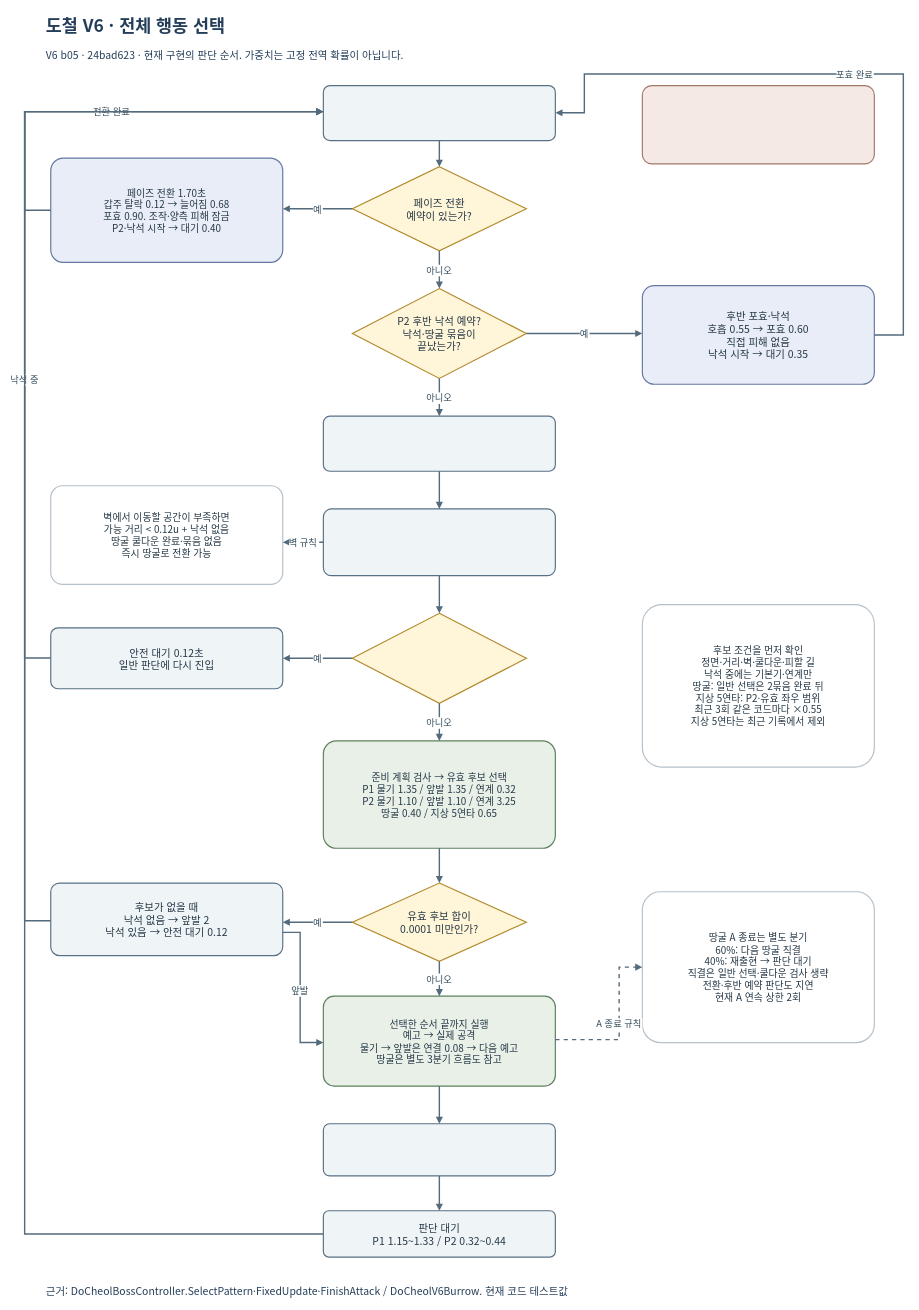
The diagram is 919 pixels wide and 1310 high, and some of its shapes have lost their labels. Each missing label, with the box of its shape:
낙석 중 플레이어가 잠긴 동작 중인가?: (351, 612, 527, 704)
사망은 어느 상태에서도 종료 보스 사망 → 승리 / 플레이어 사망 → 패배 공격·예약·낙석·마커 중지: (641, 85, 875, 164)
새 판단에서 목표 1회 저장 위치·방향 준비에도 같은 목표 재사용: (322, 415, 556, 472)
일반 판단 진입 Idle·판단 대기·안전 대기·자세 안정: (322, 85, 556, 141)
최종 회복을 끝까지 유지 5연타 1.90 / 높은 도약 1.15: (322, 1123, 556, 1176)
필요하면 돌아서기 1회·이동 1회 돌아서기 0.78 → 안정 자세 0.14 추가 추적·무한 방향 전환 없음: (322, 508, 556, 576)
